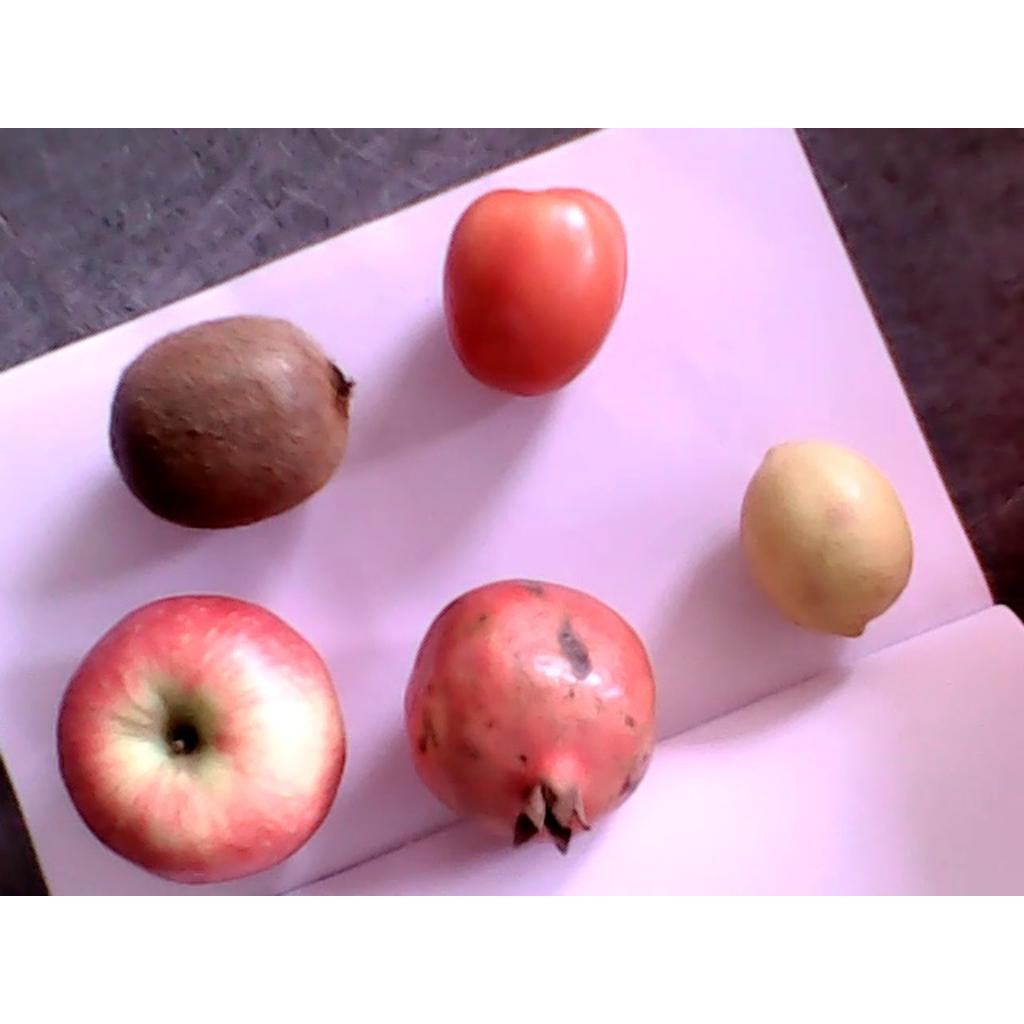apple: (56, 594, 345, 886)
kiwi: (110, 314, 357, 531)
lemon: (741, 437, 913, 639)
pomegranate: (403, 581, 656, 860)
tomato: (442, 187, 626, 398)
